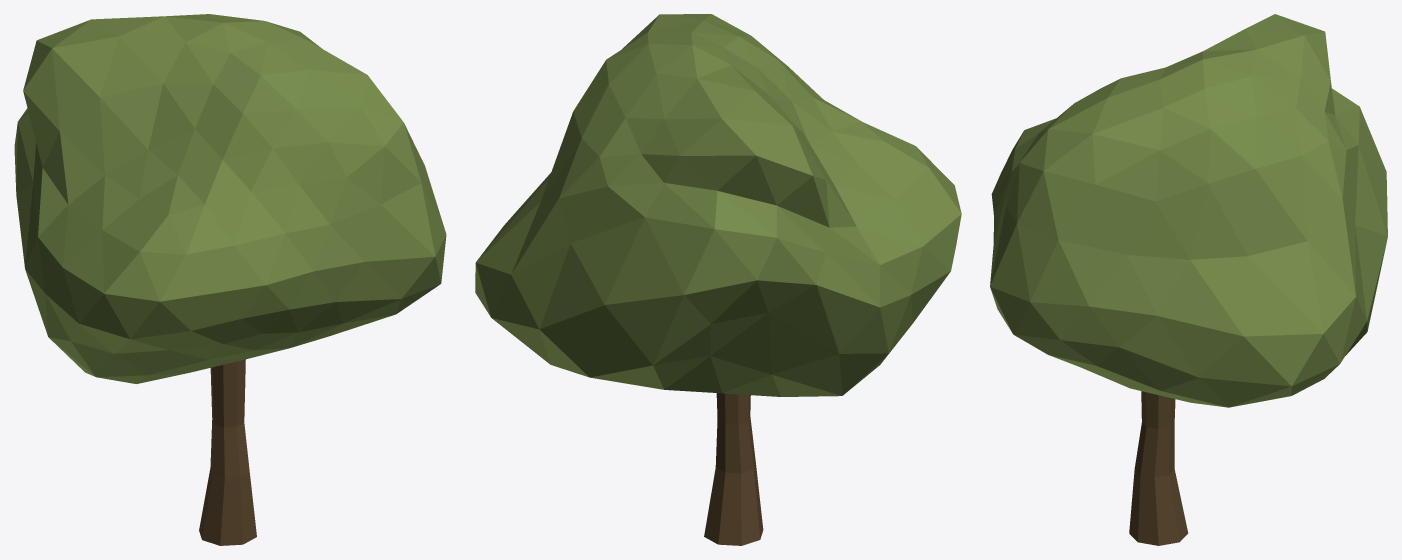
Rendered from tree3.fbx.
The picture shows the model from 3 angles, left to right: view 1: azimuth 30°, elevation 25°; view 2: azimuth 150°, elevation 25°; view 3: azimuth 270°, elevation 25°; orthographic projection. The views are drawn at different scales.
Parts seen in each view (by area): view 1: tree3; view 2: tree3; view 3: tree3.
Part boxes in pixels (x1,y1,x2,y2): tree3: [14, 14, 446, 545]; tree3: [475, 14, 961, 545]; tree3: [990, 14, 1387, 545].
Size of the model in its own units: 91.48 by 117 by 87.43.
